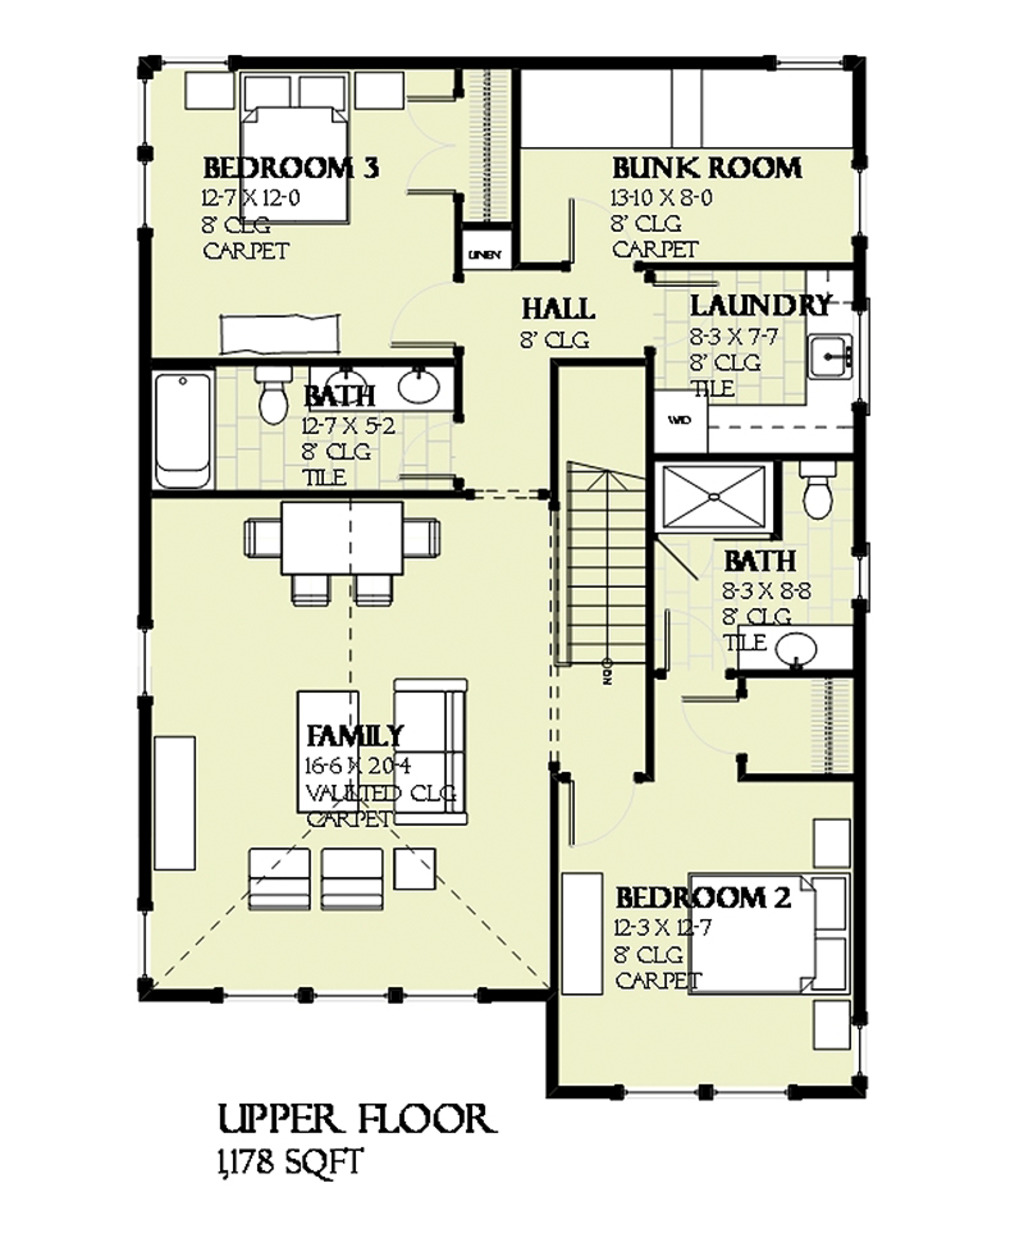bed: (690, 869, 856, 1008), (237, 71, 352, 232)
dining_table: (232, 499, 449, 612)
large_sink: (790, 459, 843, 524), (251, 363, 293, 432)
large_sofa: (394, 671, 476, 832)
small_sink: (733, 624, 858, 679), (378, 358, 456, 416)
small_sofa: (314, 844, 387, 920), (240, 845, 314, 916)
stairs: (552, 446, 651, 682)
tub: (151, 367, 222, 495)
windows: (216, 974, 477, 1007), (610, 1079, 801, 1104), (764, 44, 849, 77), (845, 154, 876, 236)
